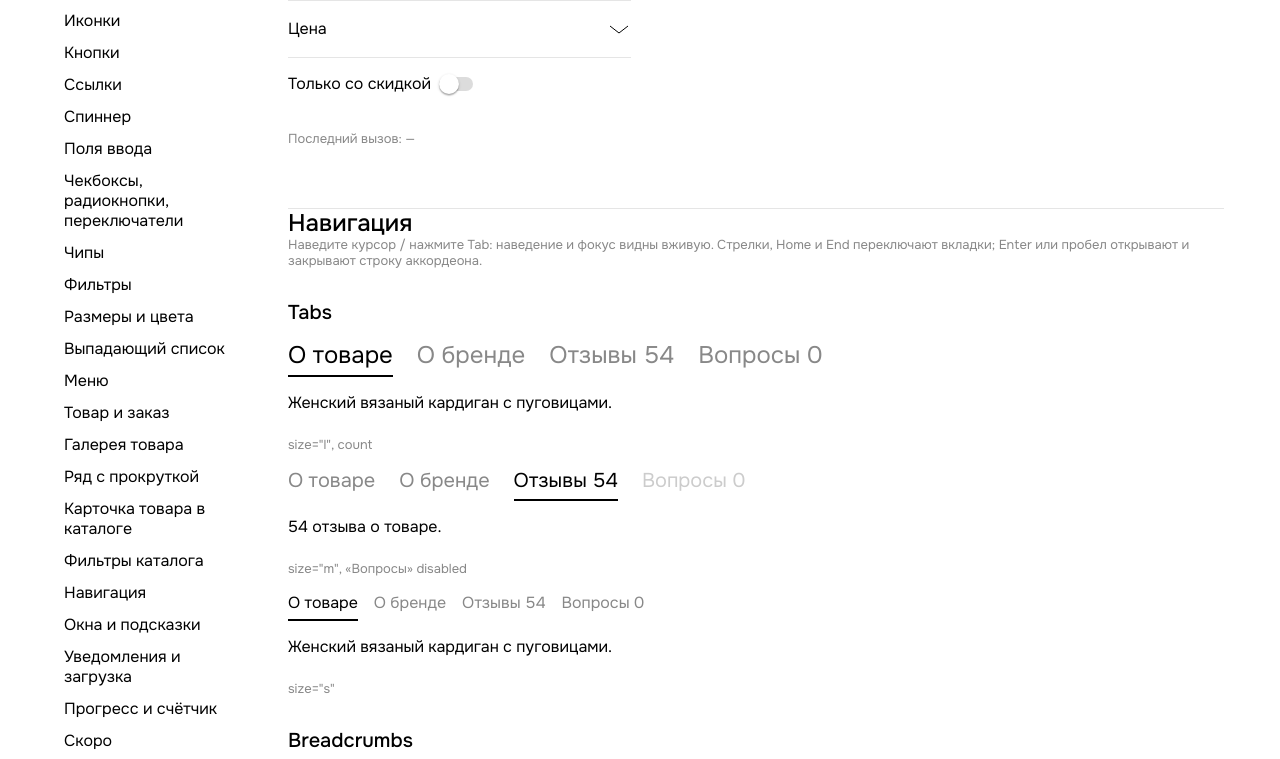
Test: navigation section › switches a tab panel on click
(page scrolled)
Expected: the 1st panel "Женский вязаный кардиган с пуговицами." is shown, [288, 392, 612, 413]
Click the 1st tab "Отзывы 54".
click(612, 359)  # box [549, 341, 674, 377]
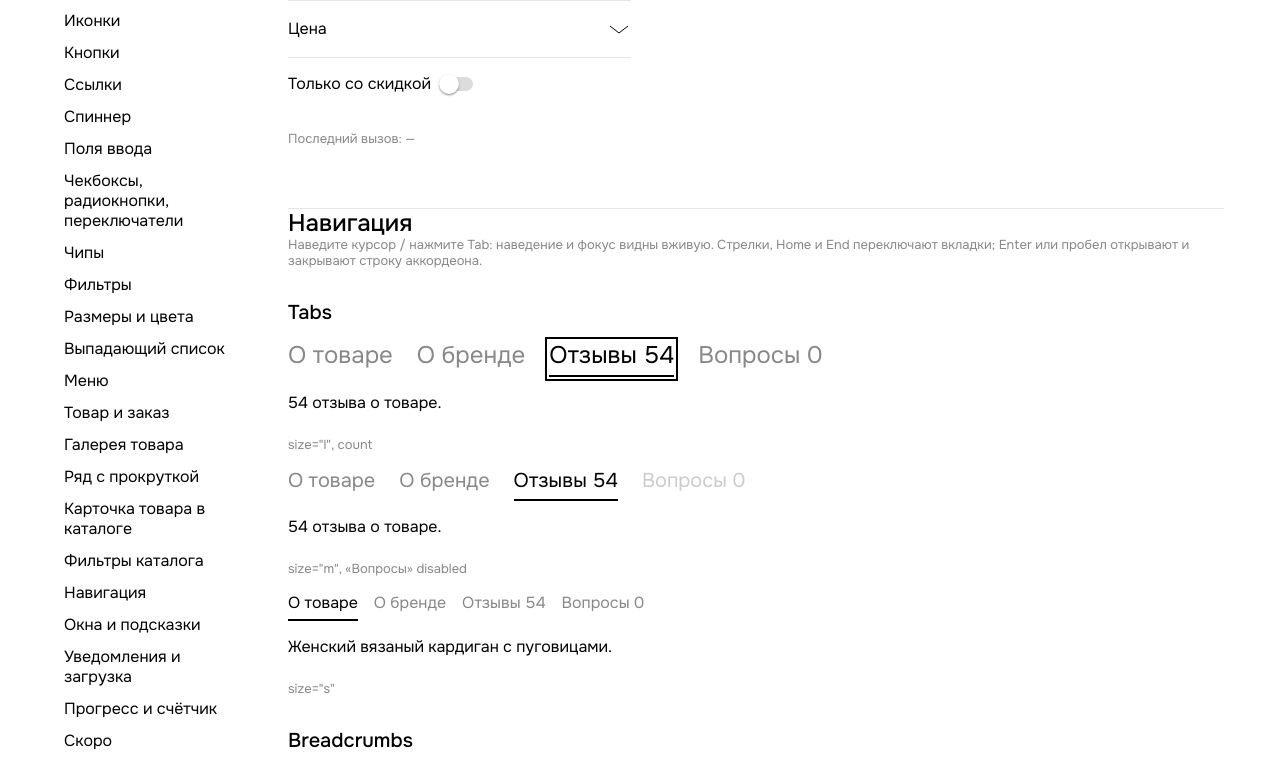
Now the 1st panel "54 отзыва о товаре." is shown, box [288, 392, 442, 413]
